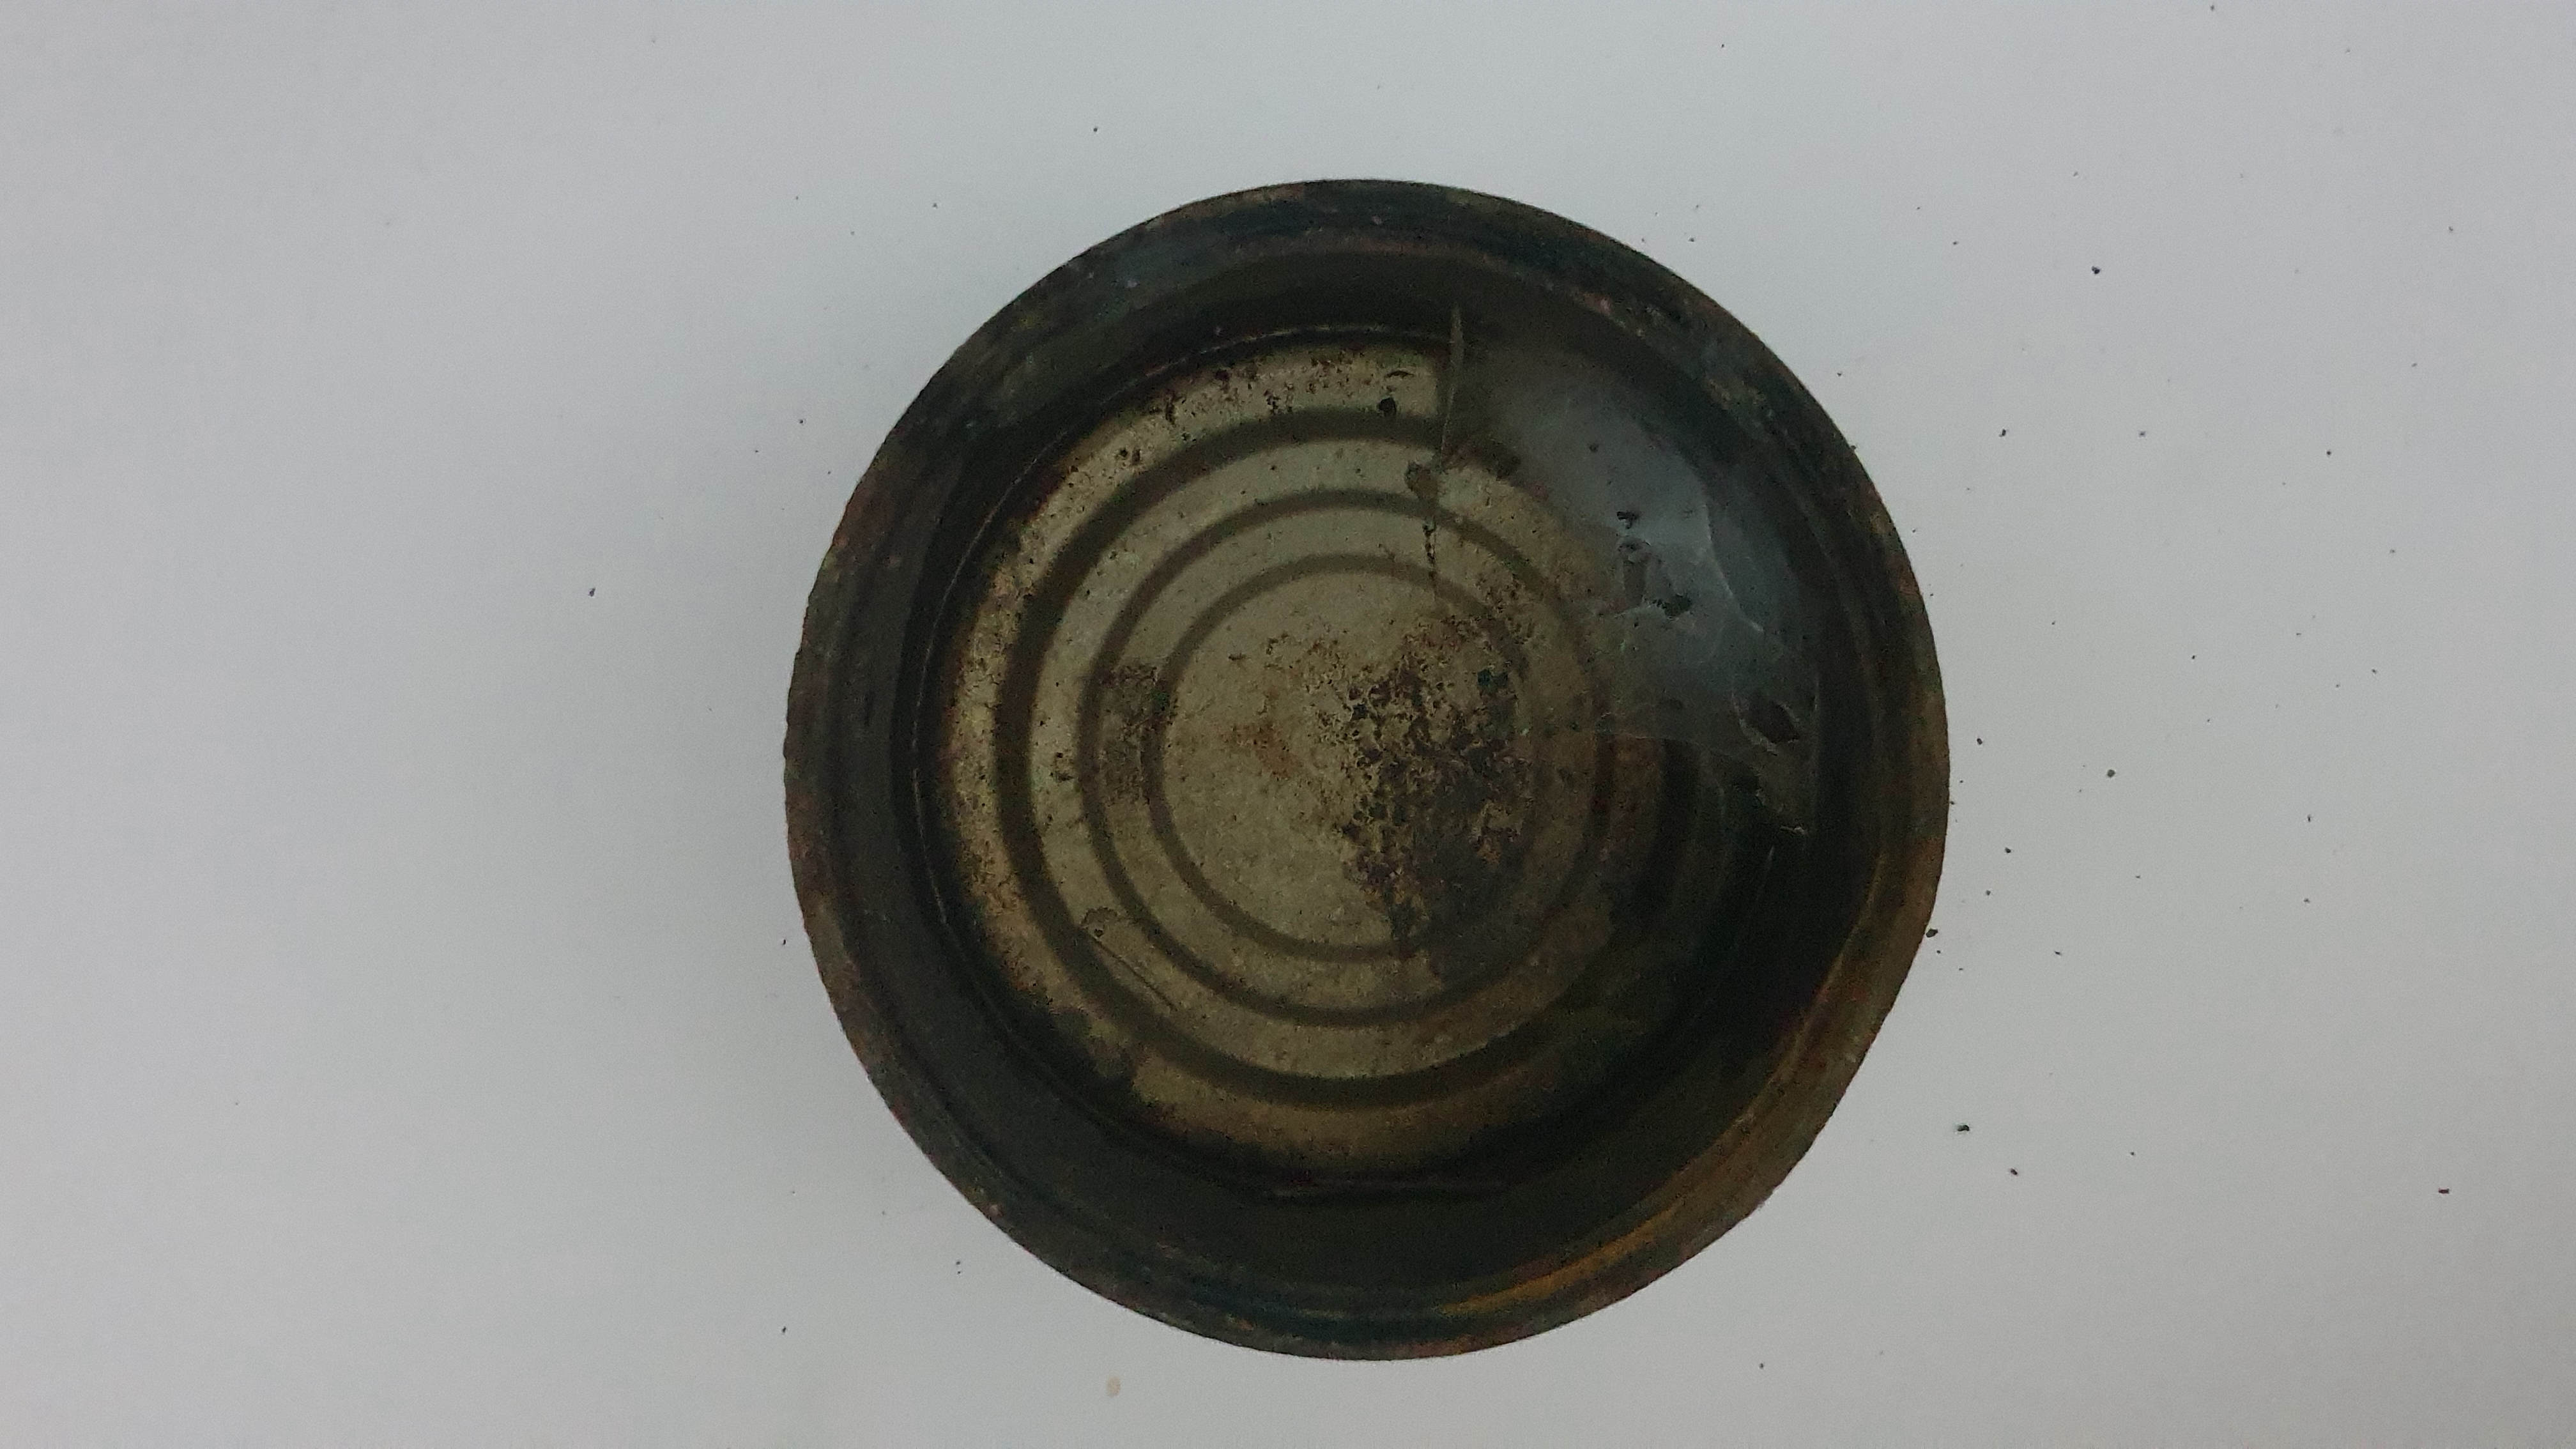metal: (748, 163, 1978, 1384)
